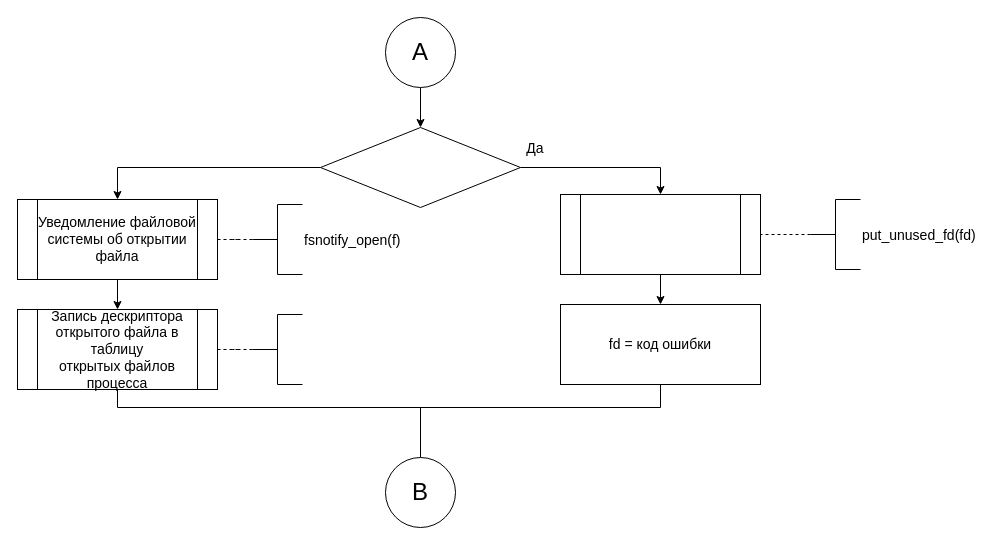
Some shapes in this 994 by 545 pixel diagram are drawn without their labels. The shapes that lost their labels are listed below. From the top down, each one's centre as x and y in pixels, then its label:
At pixel 420 167: "Ошибка?".
At pixel 660 234: "Освобождение файлового дескриптора".
At pixel 277 349: "fd_install(fd, f)".
